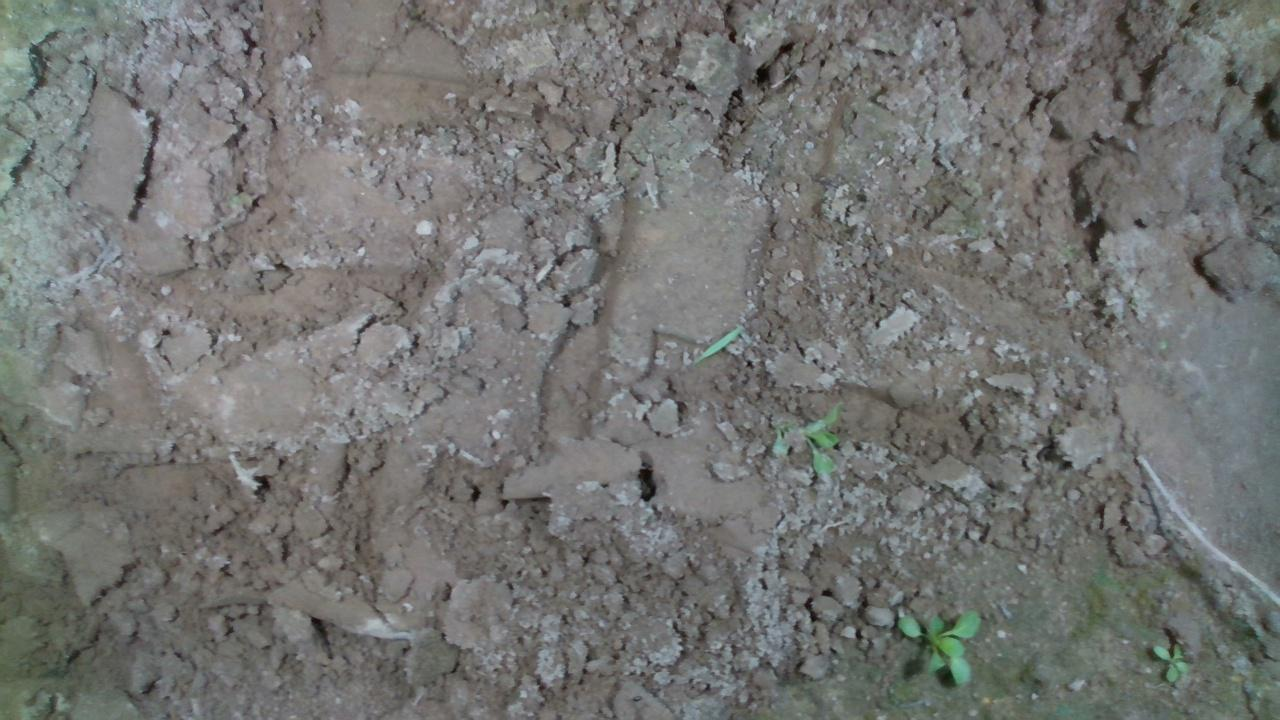weed: (1151, 638, 1189, 687)
